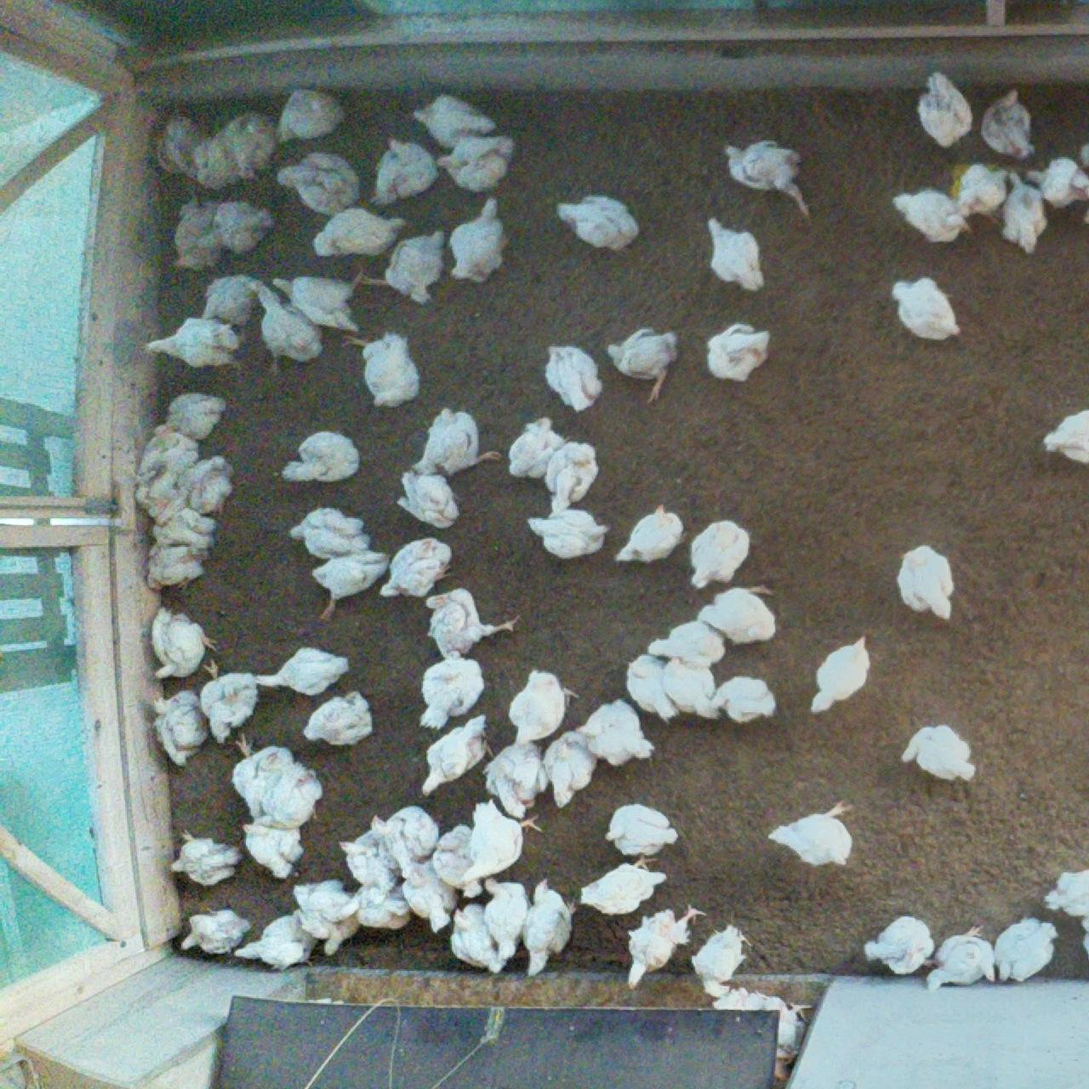chicken: (249, 278, 329, 375), (721, 139, 815, 221), (624, 904, 706, 993), (425, 589, 523, 660), (357, 229, 448, 305), (464, 799, 545, 882), (341, 325, 422, 407), (421, 713, 497, 798), (766, 799, 859, 868), (577, 850, 666, 922), (415, 406, 504, 478), (308, 546, 391, 623), (275, 147, 362, 217), (274, 269, 368, 333), (520, 878, 580, 977), (145, 316, 244, 375), (572, 700, 657, 768), (481, 737, 550, 820), (419, 648, 488, 731), (507, 667, 579, 746), (155, 456, 234, 527), (368, 132, 442, 207), (607, 326, 678, 404), (448, 195, 509, 283), (898, 720, 980, 785), (193, 196, 277, 259), (133, 486, 217, 549), (554, 193, 642, 253), (232, 732, 292, 820), (313, 206, 404, 264), (200, 658, 259, 745), (232, 916, 316, 977), (921, 926, 995, 995), (411, 92, 499, 150), (808, 634, 872, 713), (145, 609, 216, 680), (373, 803, 440, 877), (912, 70, 975, 148), (398, 852, 460, 931), (691, 922, 757, 996), (890, 184, 968, 245), (992, 914, 1059, 985), (701, 585, 780, 645), (862, 914, 936, 978), (613, 502, 687, 566), (890, 272, 957, 342), (481, 876, 534, 964), (703, 217, 765, 292), (542, 344, 606, 416), (897, 543, 956, 621), (437, 132, 516, 190), (378, 536, 453, 597), (168, 828, 243, 889), (259, 759, 326, 827), (687, 517, 749, 590), (151, 689, 209, 767), (243, 812, 308, 881), (255, 647, 352, 693), (603, 801, 681, 858), (300, 689, 376, 747), (450, 902, 511, 974), (505, 413, 568, 482), (707, 322, 774, 386), (979, 87, 1039, 158), (530, 507, 610, 560), (218, 108, 275, 182), (273, 85, 348, 141), (543, 437, 598, 513), (999, 167, 1047, 254), (170, 195, 223, 273), (282, 428, 356, 483), (291, 507, 368, 559), (624, 653, 681, 723), (542, 728, 591, 808), (663, 655, 723, 720), (435, 824, 486, 900), (648, 620, 726, 669), (398, 468, 460, 529), (951, 160, 1011, 223), (180, 905, 252, 957), (156, 107, 207, 180), (154, 387, 226, 438), (1025, 155, 1089, 211), (144, 535, 208, 591), (297, 908, 363, 960), (342, 830, 396, 892), (200, 271, 258, 327), (760, 993, 813, 1054), (135, 435, 200, 484), (710, 676, 777, 723), (191, 131, 243, 191), (355, 880, 412, 933), (294, 879, 358, 926), (1042, 408, 1089, 465), (1042, 867, 1089, 920), (709, 986, 766, 1012)
